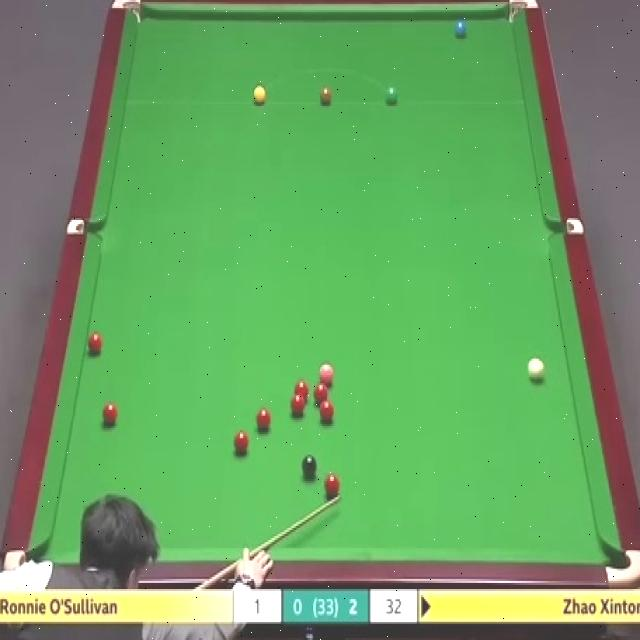black-ball: (301, 452, 319, 481)
blue-ball: (454, 18, 466, 39)
brown-ball: (320, 86, 333, 106)
green-ball: (384, 86, 399, 107)
pink-ball: (318, 362, 334, 386)
red-ball: (324, 473, 341, 499), (312, 381, 330, 404), (86, 330, 103, 354), (290, 394, 307, 417), (320, 398, 334, 425), (233, 431, 250, 453), (254, 407, 270, 430), (101, 402, 117, 423), (294, 380, 310, 401)
white-ball: (527, 358, 546, 384)
yellow-ball: (252, 85, 267, 106)
